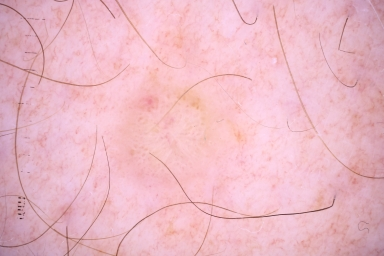nevus: (124, 91, 206, 186)
